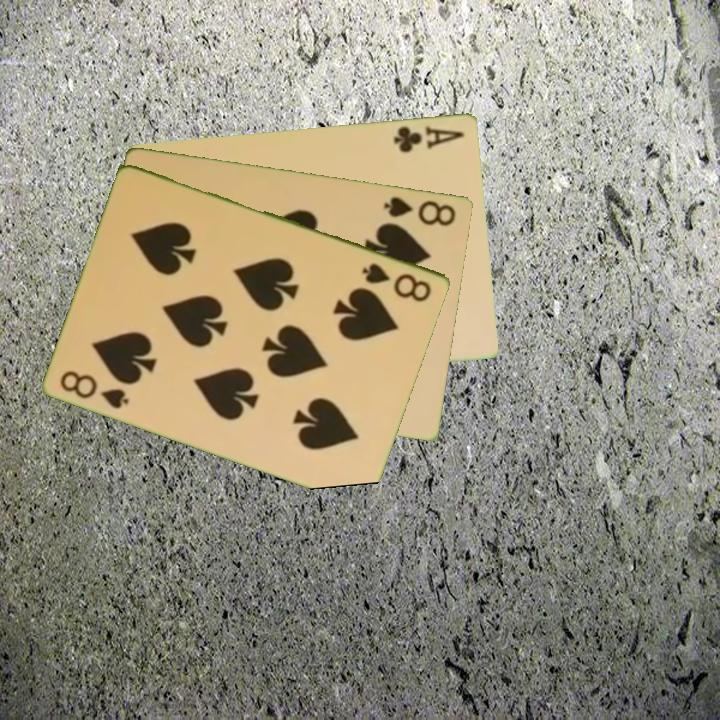8s: (359, 259, 435, 305), (57, 366, 133, 412), (381, 192, 459, 229)
Ac: (391, 121, 467, 155)
